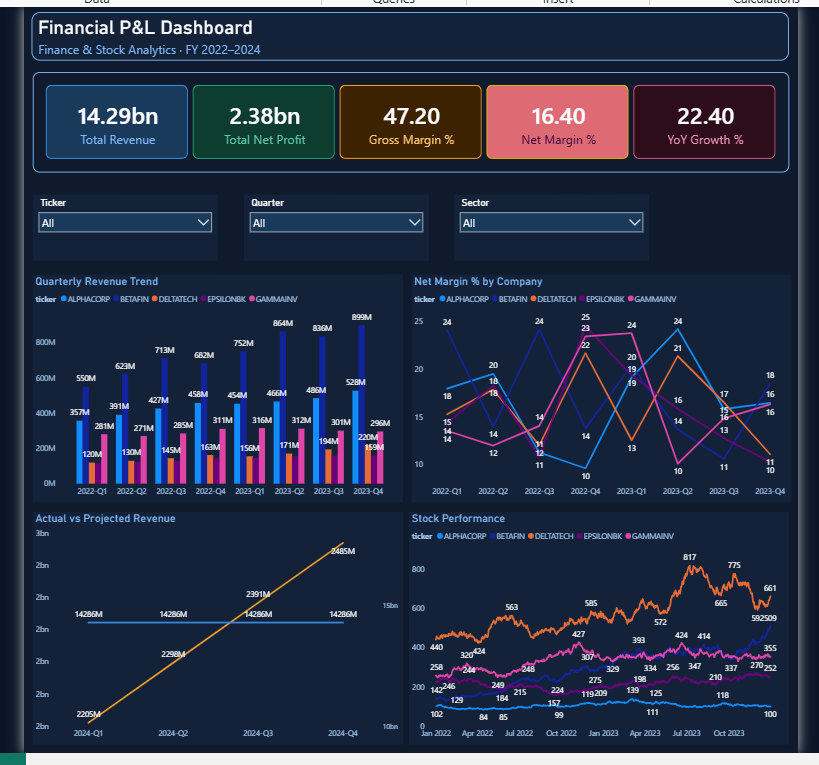

The dashboard page shown, as its layout file describes it:
{"tool":"powerbi","page":{"name":"Page 1","canvas":[1350,1150],"ordinal":0},"visuals":[{"type":"textbox","title":"Financial P&L Dashboard","box":[13.5,7.7,1320,84.8],"z":0},{"type":"cardVisual","fields":{"Data":["stocks.Total Revenue","stocks.Total Net Profit","stocks.Gross Margin %","stocks.Net Margin %","stocks.YoY Growth %"]},"box":[15.4,113.7,1318,175.4],"z":1000},{"type":"clusteredColumnChart","title":"Quarterly Revenue Trend","fields":{"Category":["vw_pl_summary.quarter"],"Y":["Sum(vw_pl_summary.revenue)"],"Series":["vw_pl_summary.ticker"]},"box":[15.4,304.5,643.6,397],"z":2000},{"type":"lineChart","title":"Net Margin % by Company","fields":{"Y":["Avg(vw_pl_summary.net_margin_pct)"],"Series":["vw_pl_summary.ticker"],"Category":["vw_pl_summary.quarter"]},"box":[670.6,304.5,643.6,397],"z":3000},{"type":"lineChart","title":"Actual vs Projected Revenue","fields":{"Category":["projections.quarter"],"Y":["Sum(projections.projected_rev)","Sum(vw_pl_summary.revenue)"]},"box":[15.4,718.8,643.6,397],"z":4000},{"type":"lineChart","title":"Stock Performance","fields":{"Category":["stocks.date.Variation.Date Hierarchy.Year","stocks.date.Variation.Date Hierarchy.Quarter","stocks.date.Variation.Date Hierarchy.Month","stocks.date.Variation.Date Hierarchy.Day"],"Y":["Sum(stocks.close)"],"Series":["stocks.ticker"]},"box":[670.6,718.8,643.6,397],"z":4001}]}

Visuals, with their boxes in screenshot pixels (x1, y1, x2, y2):
"Financial P&L Dashboard" textbox: bbox=[19, 5, 808, 55]
cardVisual - stocks.Total Revenue x stocks.Total Net Profit: bbox=[20, 68, 808, 173]
"Quarterly Revenue Trend" clusteredColumnChart: bbox=[20, 182, 405, 420]
"Net Margin % by Company" lineChart: bbox=[412, 182, 797, 420]
"Actual vs Projected Revenue" lineChart: bbox=[20, 430, 405, 668]
"Stock Performance" lineChart: bbox=[412, 430, 797, 668]
